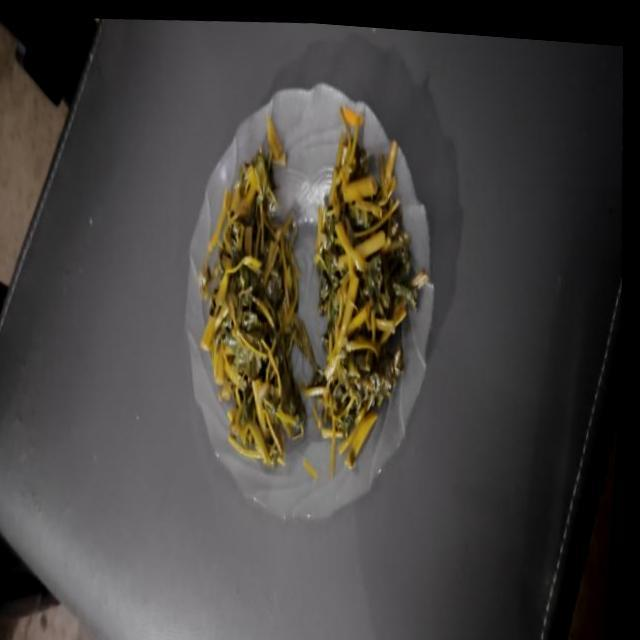tumis_kangkung: (305, 108, 428, 468), (200, 126, 313, 464)
